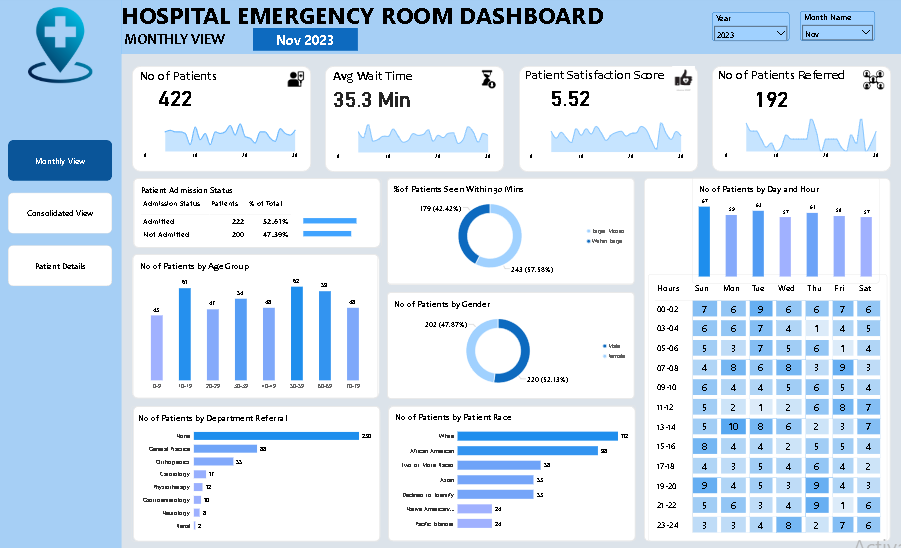

This screenshot's page, from the dashboard's own definition file:
{"tool":"powerbi","page":{"name":"Monthly View","canvas":[2300,1400],"ordinal":0},"visuals":[{"type":"shape","box":[1642.5,455,627.5,925],"z":0},{"type":"shape","box":[987.5,455,630,272.5],"z":1000},{"type":"shape","box":[987.5,745,630,272.5],"z":2000},{"type":"shape","box":[990,1035,630,345],"z":3000},{"type":"shape","box":[340,1035,630,345],"z":4000},{"type":"shape","box":[340,455,630,177.5],"z":5000},{"type":"shape","box":[337.3,170.3,456.1,269],"z":6000},{"type":"shape","box":[0,0,312,1400],"z":7000},{"type":"shape","box":[311.4,0,1988.6,140],"z":8000},{"type":"textbox","box":[311.4,0,1305.7,80],"z":9000},{"type":"textbox","box":[311.4,80,334.3,51.4],"z":10000},{"type":"cardVisual","fields":{"Data":["Hospital ER_Data.No of Patients"]},"box":[372.6,215.2,154.2,70.7],"z":11000},{"type":"slicer","fields":{"Values":["Date Table.Year"]},"box":[1814.3,34.3,197.1,74.3],"z":12000},{"type":"slicer","fields":{"Values":["Date Table.Month Name"]},"box":[2038.9,30.5,190.9,76.4],"z":13000},{"type":"shape","box":[829.8,170,456.1,269.8],"z":14000},{"type":"shape","box":[1814.9,170,456.1,269],"z":15000},{"type":"shape","box":[1322.4,170,456.1,269.8],"z":16000},{"type":"textbox","box":[360,175,228.6,45],"z":17000},{"type":"areaChart","fields":{"Y":["Hospital ER_Data.No of Patients"],"Category":["Date Table.Day"]},"box":[346.9,282.7,433.7,144.6],"z":18000},{"type":"cardVisual","fields":{"Data":["Min(Date Table.Month & Year)"]},"box":[645.7,73.9,266.6,57.8],"z":19000},{"type":"cardVisual","fields":{"Data":["Hospital ER_Data.Avg Satisfaction Score"]},"box":[1378.1,215.2,154.2,70.7],"z":20000},{"type":"textbox","box":[850,175,228.6,45],"z":21000},{"type":"areaChart","fields":{"Category":["Date Table.Day"],"Y":["Avg(Hospital ER_Data.Patient Waittime)"]},"box":[838.4,285.9,433.7,144.6],"z":22000},{"type":"cardVisual","fields":{"Data":["Hospital ER_Data.Avg Wait Time"]},"box":[838.4,218.4,228.1,70.7],"z":23000},{"type":"textbox","box":[1339.5,173.5,408,45],"z":24000},{"type":"areaChart","fields":{"Category":["Date Table.Day"],"Y":["Hospital ER_Data.Avg Satisfaction Score"]},"box":[1329.9,285.9,433.7,144.6],"z":25000},{"type":"cardVisual","fields":{"Data":["Hospital ER_Data.No of Patients Referred"]},"box":[1888.8,218.4,154.2,70.7],"z":26000},{"type":"textbox","box":[1831.4,174.3,348.6,42.9],"z":27000},{"type":"areaChart","fields":{"Category":["Date Table.Day"],"Y":["Hospital ER_Data.No of Patients Referred"]},"box":[1824.6,282.7,433.7,144.6],"z":28000},{"type":"pivotTable","title":"Patient Admission Status","fields":{"Rows":["Hospital ER_Data.Admission Status"],"Values":["Hospital ER_Data.No of Patients","Divide(Hospital ER_Data.No of Patients, ScopedEval(Hospital ER_Data.No of Patients, []))"]},"box":[342.5,455,630,177.5],"z":29000},{"type":"barChart","fields":{"Y":["Hospital ER_Data.No of Patients"],"Category":["Hospital ER_Data.Admission Status"]},"box":[757.5,520,215,120],"z":30000},{"type":"shape","box":[337.5,650,630,367.5],"z":31000},{"type":"clusteredColumnChart","title":"No of Patients by Age Group","fields":{"Category":["Hospital ER_Data.Age Group"],"Y":["Hospital ER_Data.No of Patients"]},"box":[340,650,622.5,367.5],"z":32000},{"type":"clusteredBarChart","fields":{"Category":["Hospital ER_Data.Department Referral"],"Y":["Hospital ER_Data.No of Patients"]},"box":[335,1035,632.5,345],"z":33000},{"type":"donutChart","title":"% of Patients Seen Within 30 Mins","fields":{"Y":["Hospital ER_Data.No of Patients"],"Category":["Hospital ER_Data.Waiting Status"]},"box":[988.6,454.3,631.4,271.4],"z":33001},{"type":"donutChart","title":"No of Patients by Gender","fields":{"Y":["Hospital ER_Data.No of Patients"],"Category":["Hospital ER_Data.Patient Gender"]},"box":[988.6,745.7,631.4,271.4],"z":33002},{"type":"clusteredBarChart","fields":{"Y":["Hospital ER_Data.No of Patients"],"Category":["Hospital ER_Data.Patient Race"]},"box":[990,1034.3,631.4,345.7],"z":33003},{"type":"pivotTable","fields":{"Rows":["Hospital ER_Data.Waiting Interval"],"Columns":["Date Table.Day Name"],"Values":["Hospital ER_Data.No of Patients"]},"box":[1651.4,700,608.6,680],"z":33004},{"type":"columnChart","title":"No of Patients by Day and Hour","fields":{"Category":["Date Table.Day Name"],"Y":["Hospital ER_Data.No of Patients"]},"box":[1762.9,454.3,477.1,271.4],"z":33005},{"type":"image","box":[22.9,20,265.7,194.3],"z":33006},{"type":"image","box":[731.4,174.3,48.6,60],"z":33007},{"type":"image","box":[1222.9,174.3,48.6,62.9],"z":33008},{"type":"image","box":[1705.7,171.4,74.3,62.9],"z":33009},{"type":"image","box":[2200,177.1,54.3,54.3],"z":33010},{"type":"pageNavigator","box":[22.9,360,265.7,374.3],"z":33011}]}

Visuals, with their boxes in screenshot pixels (x1, y1, x2, y2), scaled from the page's 2300x1400 canvas onto the 901x548 screenshot:
shape: 643:178:889:540
shape: 387:178:634:285
shape: 387:292:634:398
shape: 388:405:635:540
shape: 133:405:380:540
shape: 133:178:380:248
shape: 132:67:311:172
shape: 0:0:122:547
shape: 122:0:900:55
textbox: 122:0:633:31
textbox: 122:31:253:51
cardVisual - Hospital ER_Data.No of Patients: 146:84:206:112
slicer - Date Table.Year: 711:13:788:43
slicer - Date Table.Month Name: 799:12:873:42
shape: 325:67:504:172
shape: 711:67:890:172
shape: 518:67:697:172
textbox: 141:68:231:86
areaChart - Hospital ER_Data.No of Patients x Date Table.Day: 136:111:306:167
cardVisual - Min(Date Table.Month & Year): 253:29:357:52
cardVisual - Hospital ER_Data.Avg Satisfaction Score: 540:84:600:112
textbox: 333:68:423:86
areaChart - Date Table.Day x Avg(Hospital ER_Data.Patient Waittime): 328:112:498:169
cardVisual - Hospital ER_Data.Avg Wait Time: 328:85:418:113
textbox: 525:68:685:86
areaChart - Date Table.Day x Hospital ER_Data.Avg Satisfaction Score: 521:112:691:169
cardVisual - Hospital ER_Data.No of Patients Referred: 740:85:800:113
textbox: 717:68:854:85
areaChart - Date Table.Day x Hospital ER_Data.No of Patients Referred: 715:111:885:167
"Patient Admission Status" pivotTable: 134:178:381:248
barChart - Hospital ER_Data.No of Patients x Hospital ER_Data.Admission Status: 297:204:381:251
shape: 132:254:379:398
"No of Patients by Age Group" clusteredColumnChart: 133:254:377:398
clusteredBarChart - Hospital ER_Data.Department Referral x Hospital ER_Data.No of Patients: 131:405:379:540
"% of Patients Seen Within 30 Mins" donutChart: 387:178:635:284
"No of Patients by Gender" donutChart: 387:292:635:398
clusteredBarChart - Hospital ER_Data.No of Patients x Hospital ER_Data.Patient Race: 388:405:635:540
pivotTable - Hospital ER_Data.Waiting Interval x Date Table.Day Name: 647:274:885:540
"No of Patients by Day and Hour" columnChart: 691:178:877:284
image: 9:8:113:84
image: 287:68:306:92
image: 479:68:498:93
image: 668:67:697:92
image: 862:69:883:91
pageNavigator: 9:141:113:287
